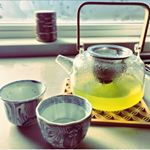cups: (33, 92, 93, 150), (1, 78, 50, 130)
other: (52, 43, 148, 113)
